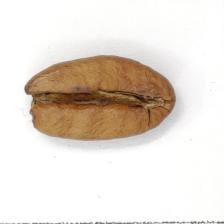NG: (24, 76, 110, 132)
